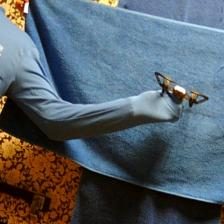drone: (153, 69, 210, 108)
